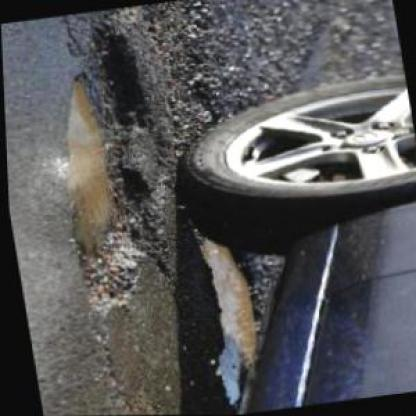pothole: (33, 22, 180, 318)
